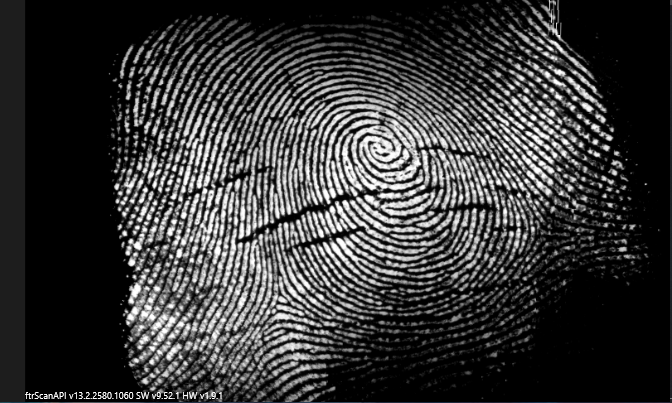deltas: (515, 199, 568, 254), (256, 266, 301, 325)
nucleo: (355, 126, 406, 169)
